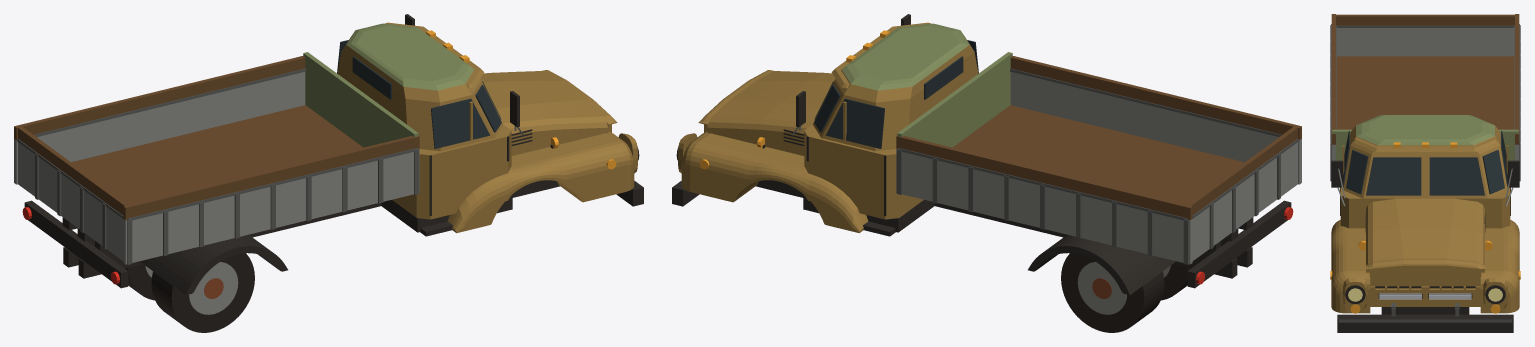
Rendered from base_longbed.glb.
The picture shows the model from 3 angles, left to right: view 1: azimuth 30°, elevation 25°; view 2: azimuth 150°, elevation 25°; view 3: azimuth 270°, elevation 25°; orthographic projection. The views are drawn at different scales.
Parts seen in each view (by area): view 1: base_longbed; view 2: base_longbed; view 3: base_longbed.
Part boxes in pixels (x1,y1,x2,y2): base_longbed: [14, 14, 643, 332]; base_longbed: [672, 14, 1301, 332]; base_longbed: [1330, 14, 1520, 332].
Bounding box in the file's own units: 7.15 × 2.61 × 2.69.
